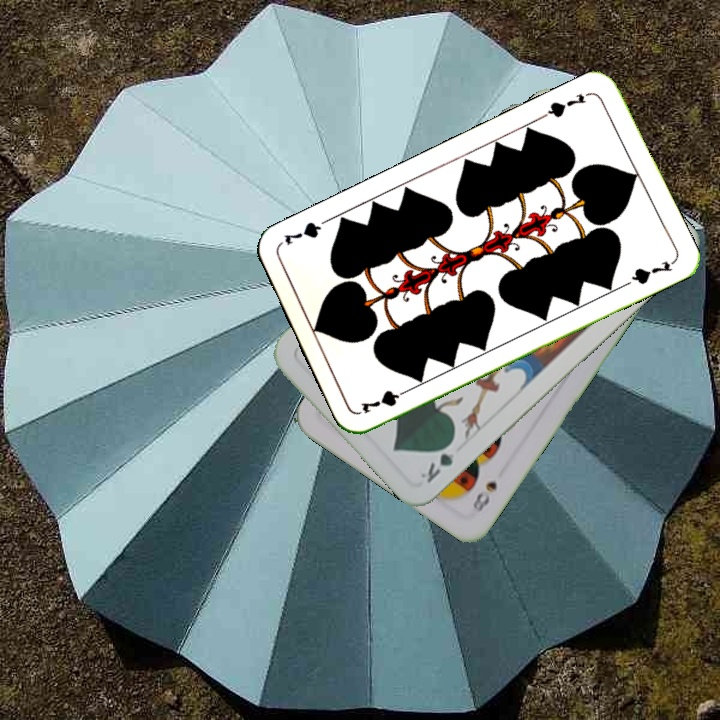G7: (357, 383, 414, 417), (538, 88, 594, 121)
GK: (416, 435, 458, 486)
S8: (468, 477, 500, 516)
